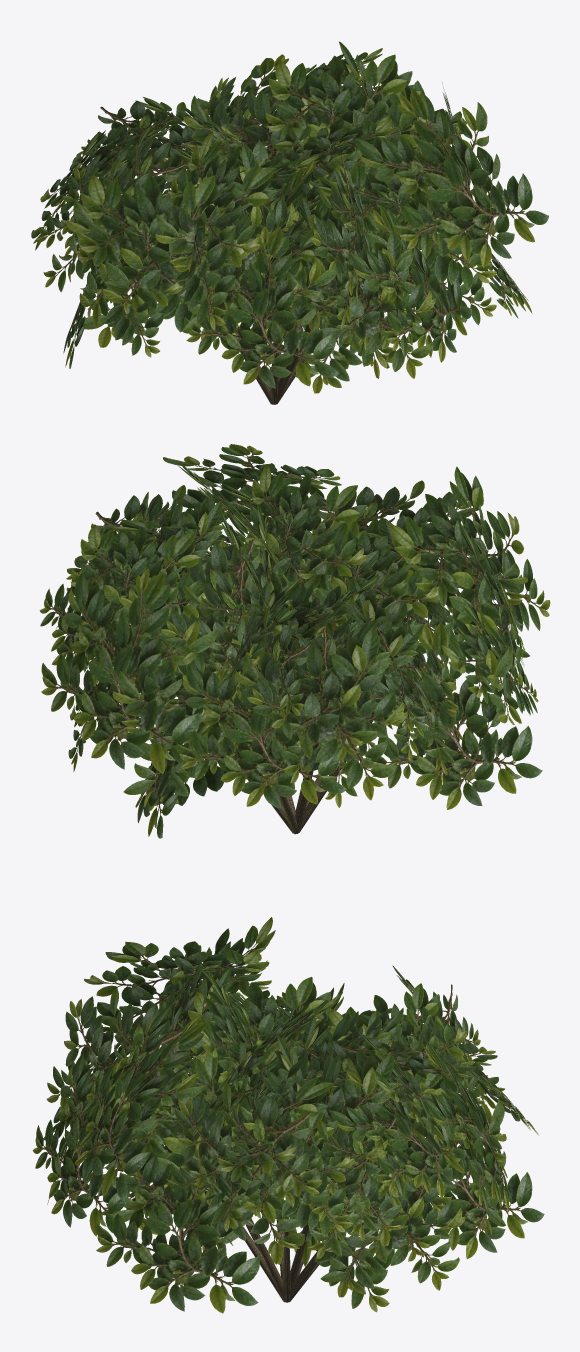
The model's file is shrub_02.glb.
3 renders of one model, top to bottom at view 1: azimuth 30°, elevation 25°; view 2: azimuth 150°, elevation 25°; view 3: azimuth 270°, elevation 25°, orthographic. The views are drawn at different scales.
Parts seen in each view (by area): view 1: shrub_02; view 2: shrub_02; view 3: shrub_02.
Part boxes in pixels (x1,y1,x2,y2): shrub_02: (31, 41, 548, 404); shrub_02: (39, 444, 550, 838); shrub_02: (32, 917, 544, 1313).
Size of the model in its own units: 2.34 by 1.66 by 2.39.
2 materials, 2 textured.
